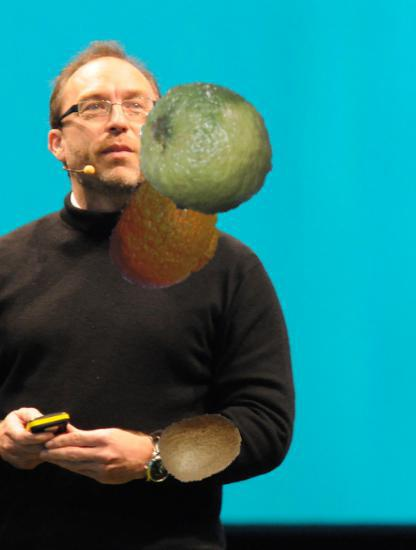Kiwi: (157, 405, 242, 490)
Limes: (138, 81, 275, 218)
Mandarine: (105, 170, 230, 295)
